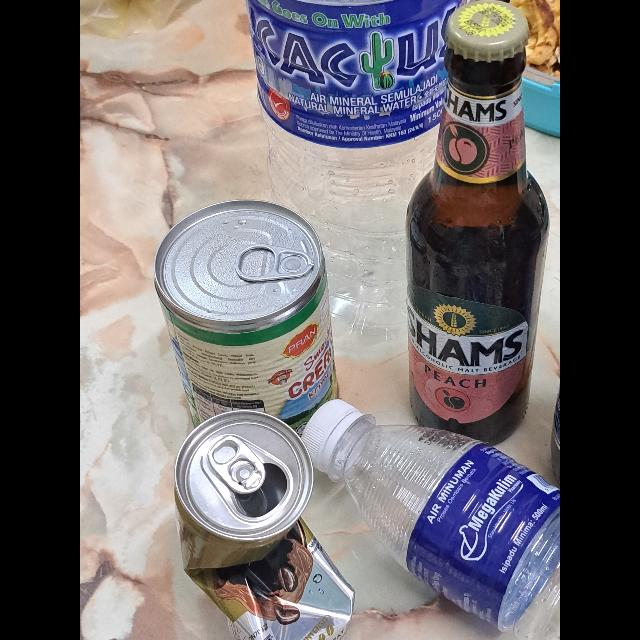aba de lata: (207, 434, 266, 494), (240, 246, 314, 280)
garrafa de vidro: (403, 0, 547, 444)
garrafa plástica: (244, 1, 458, 353), (344, 422, 560, 640)
lata: (152, 200, 342, 438), (172, 408, 354, 640)
tampa plástica: (299, 398, 359, 474)
